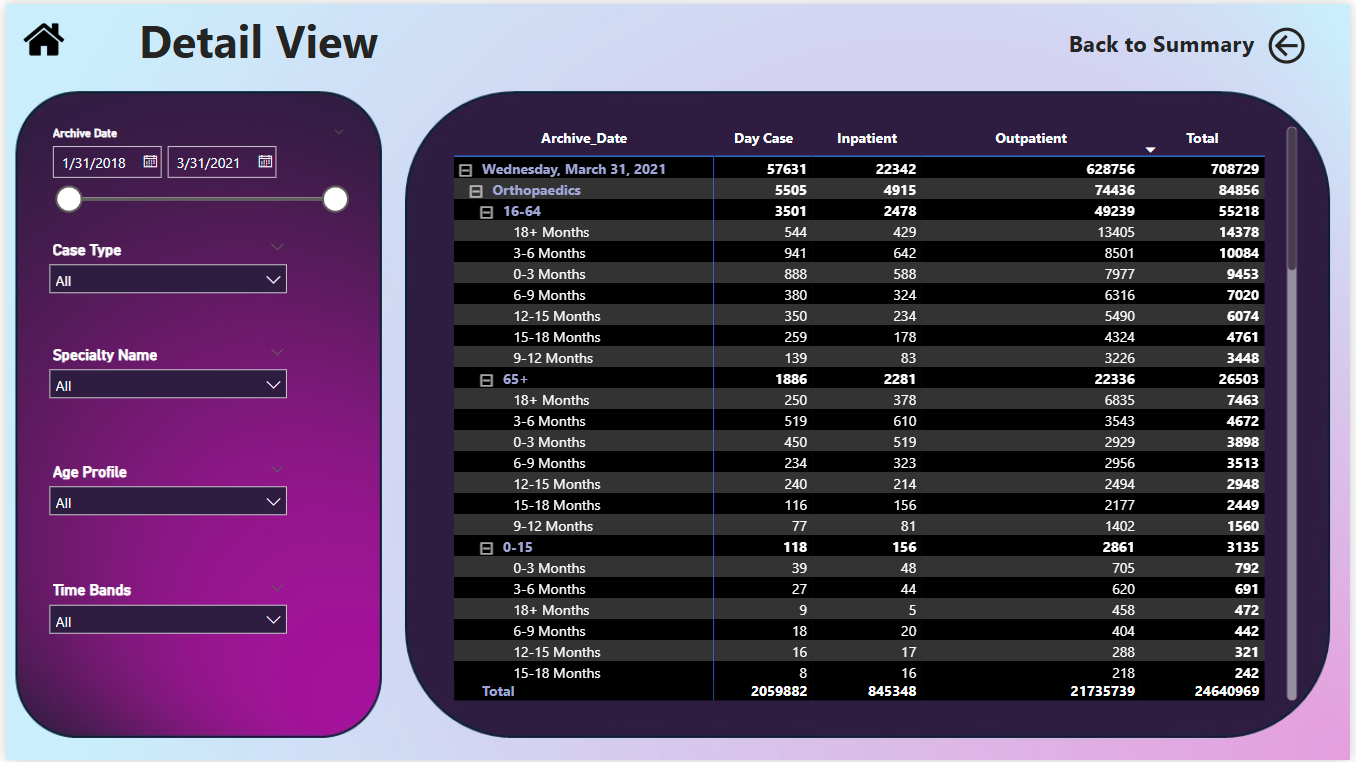

What the dashboard file says about the page in this screenshot:
{"tool":"powerbi","page":{"name":"Detail","canvas":[1280,720],"ordinal":2},"visuals":[{"type":"slicer","fields":{"Values":["All_Data.Specialty_Name"]},"box":[31.4,320,245.7,80],"z":0},{"type":"textbox","box":[121.7,0,273.3,80],"z":1000},{"type":"slicer","fields":{"Values":["All_Data.Age_Profile"]},"box":[31.4,431.4,245.7,80],"z":2000},{"type":"slicer","fields":{"Values":["All_Data.Time_Bands"]},"box":[31.4,544.3,245.7,80],"z":3000},{"type":"pivotTable","fields":{"Rows":["All_Data.Archive_Date","All_Data.Specialty_Name","All_Data.Age_Profile","All_Data.Time_Bands"],"Columns":["All_Data.Case_Type"],"Values":["Sum(All_Data.Total)"]},"box":[421.4,111.4,812.9,557.1],"z":4000},{"type":"slicer","fields":{"Values":["All_Data.Archive_Date"]},"box":[31.7,111.7,303.3,128.3],"z":5000},{"type":"slicer","fields":{"Values":["All_Data.Case_Type"]},"box":[31.4,220,245.7,80],"z":6000},{"type":"actionButton","box":[1196.7,16.7,50,45],"z":7000},{"type":"image","box":[11,5.5,48.8,56.5],"z":7001},{"type":"actionButton","box":[22.7,24.3,26.5,18.2],"z":7002},{"type":"textbox","box":[1006.7,16.7,273.3,60],"z":7003}]}

Visuals, with their boxes in screenshot pixels (x1, y1, x2, y2), scaled from the page's 1280x720 canvas onto the 1356x762 screenshot:
slicer - All_Data.Specialty_Name: [33, 339, 294, 423]
textbox: [129, 0, 418, 85]
slicer - All_Data.Age_Profile: [33, 457, 294, 541]
slicer - All_Data.Time_Bands: [33, 576, 294, 661]
pivotTable - All_Data.Archive_Date x All_Data.Specialty_Name: [446, 118, 1308, 707]
slicer - All_Data.Archive_Date: [34, 118, 355, 254]
slicer - All_Data.Case_Type: [33, 233, 294, 318]
actionButton: [1268, 18, 1321, 65]
image: [12, 6, 63, 66]
actionButton: [24, 26, 52, 45]
textbox: [1066, 18, 1355, 81]
